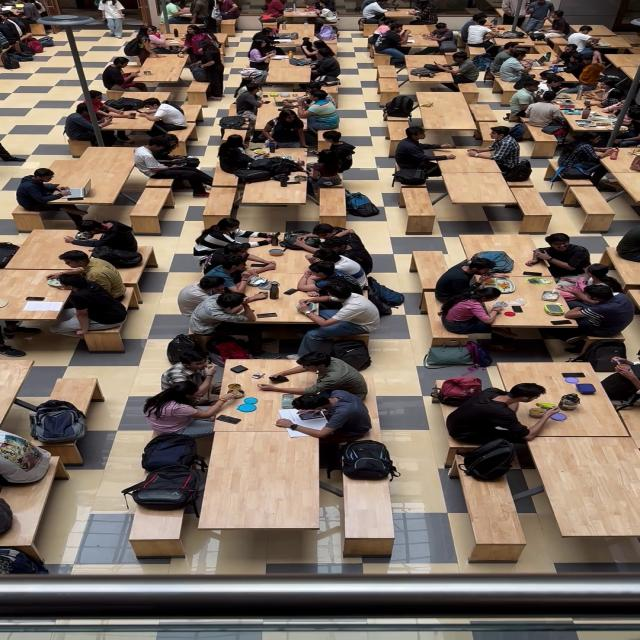Occupied: (439, 360, 636, 444), (2, 246, 154, 314), (216, 92, 329, 175), (14, 147, 142, 219), (212, 363, 318, 432), (67, 106, 201, 156), (453, 283, 584, 331), (232, 226, 326, 292), (238, 3, 356, 52), (260, 352, 369, 402), (142, 380, 238, 436), (282, 388, 372, 446), (3, 233, 135, 270), (132, 137, 214, 195), (378, 59, 471, 102), (176, 274, 263, 319), (296, 282, 381, 327), (434, 256, 504, 306), (161, 354, 230, 404), (276, 28, 346, 76), (565, 285, 636, 330), (58, 279, 129, 324), (193, 215, 277, 253), (555, 136, 618, 186), (249, 151, 317, 196), (238, 175, 310, 217), (216, 135, 278, 183), (0, 269, 74, 309), (395, 126, 455, 175), (130, 52, 190, 100), (234, 298, 326, 329), (553, 103, 616, 146), (528, 234, 590, 276), (200, 253, 272, 289), (554, 264, 623, 301), (66, 220, 140, 254), (190, 36, 226, 102), (442, 286, 506, 323), (296, 90, 341, 142), (64, 103, 120, 144), (125, 24, 177, 68), (472, 127, 522, 172), (300, 251, 365, 285), (418, 93, 476, 128), (359, 8, 429, 36), (136, 98, 188, 135), (490, 28, 554, 58), (261, 110, 308, 150), (557, 49, 606, 87), (263, 53, 313, 90), (433, 51, 484, 87), (534, 68, 588, 102), (523, 93, 567, 133), (101, 57, 147, 94), (437, 154, 510, 175), (0, 8, 33, 54), (586, 73, 632, 106), (498, 49, 541, 84), (373, 25, 408, 66), (303, 49, 341, 86), (398, 24, 441, 54), (304, 160, 345, 190), (183, 25, 217, 60), (566, 27, 603, 57), (233, 82, 266, 115), (521, 0, 553, 33), (279, 8, 323, 32), (466, 17, 498, 49), (16, 1, 48, 28), (249, 38, 280, 65), (422, 22, 454, 48), (539, 12, 571, 37), (411, 0, 439, 25), (162, 0, 187, 25), (361, 0, 388, 23), (546, 117, 572, 140), (215, 0, 241, 21), (274, 94, 308, 110), (501, 0, 523, 24), (313, 0, 339, 19), (375, 18, 402, 36), (261, 0, 286, 19), (578, 26, 620, 36), (554, 98, 580, 112), (291, 6, 320, 17), (403, 32, 415, 44)
Unoccupied: (197, 430, 322, 530), (530, 433, 640, 539), (452, 454, 528, 562), (0, 484, 64, 566), (341, 467, 395, 558), (440, 173, 523, 232), (126, 497, 189, 559), (0, 358, 36, 438), (566, 184, 618, 228), (458, 235, 540, 262), (126, 186, 174, 229), (510, 184, 554, 230), (49, 378, 103, 412), (411, 251, 452, 294), (401, 187, 437, 232), (202, 182, 242, 219), (604, 246, 640, 286), (319, 188, 347, 223), (220, 122, 252, 144), (186, 79, 210, 105), (385, 121, 413, 142), (180, 104, 203, 124), (220, 20, 237, 34), (431, 61, 454, 70)
